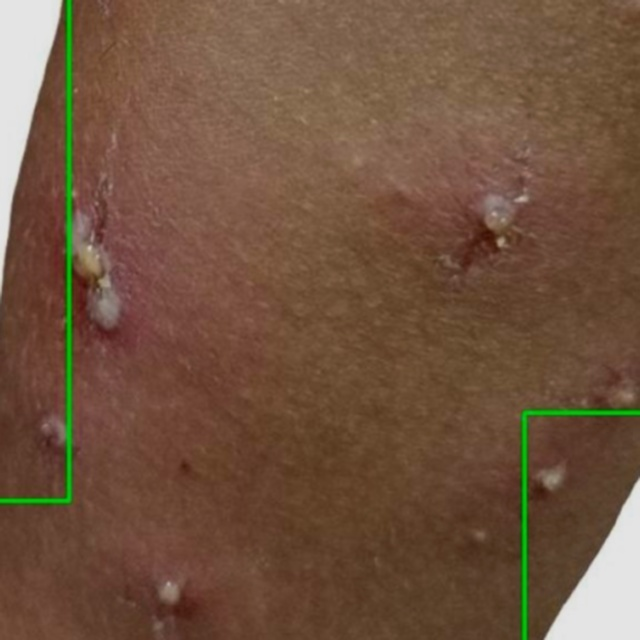Scabies: (0, 0, 69, 500), (524, 414, 639, 639)
